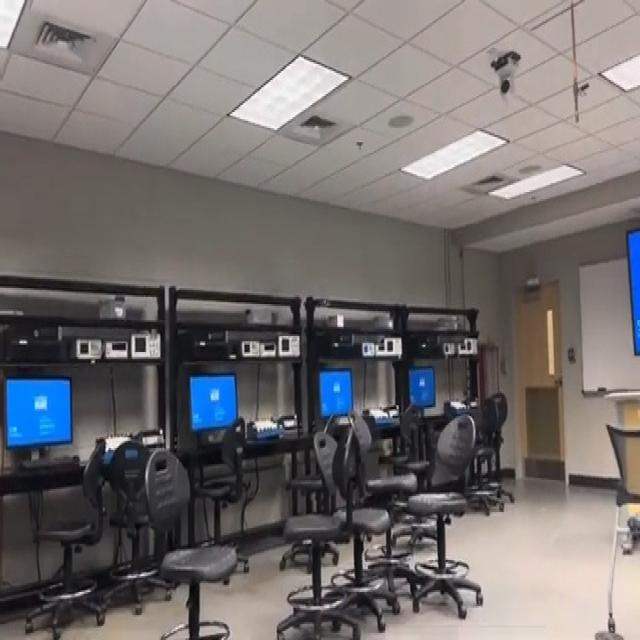drone: (315, 288, 335, 322)
